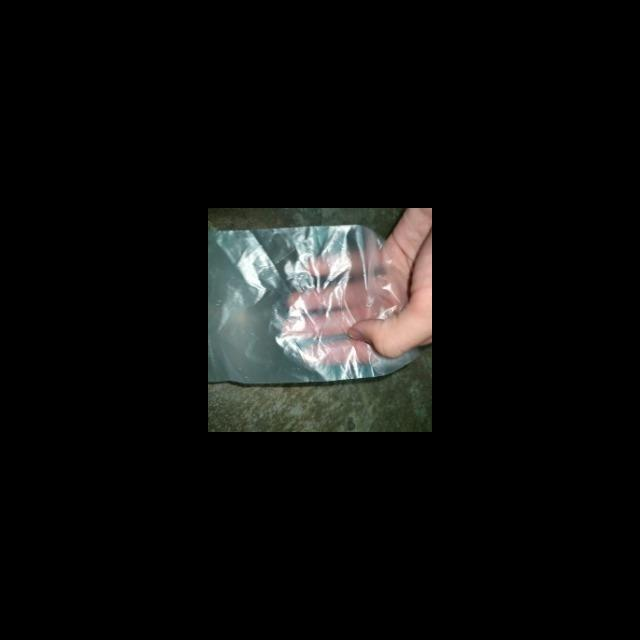plastic: (208, 216, 432, 392)
